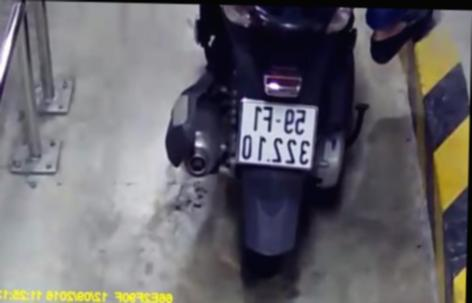License_Plate: (227, 95, 322, 171)
